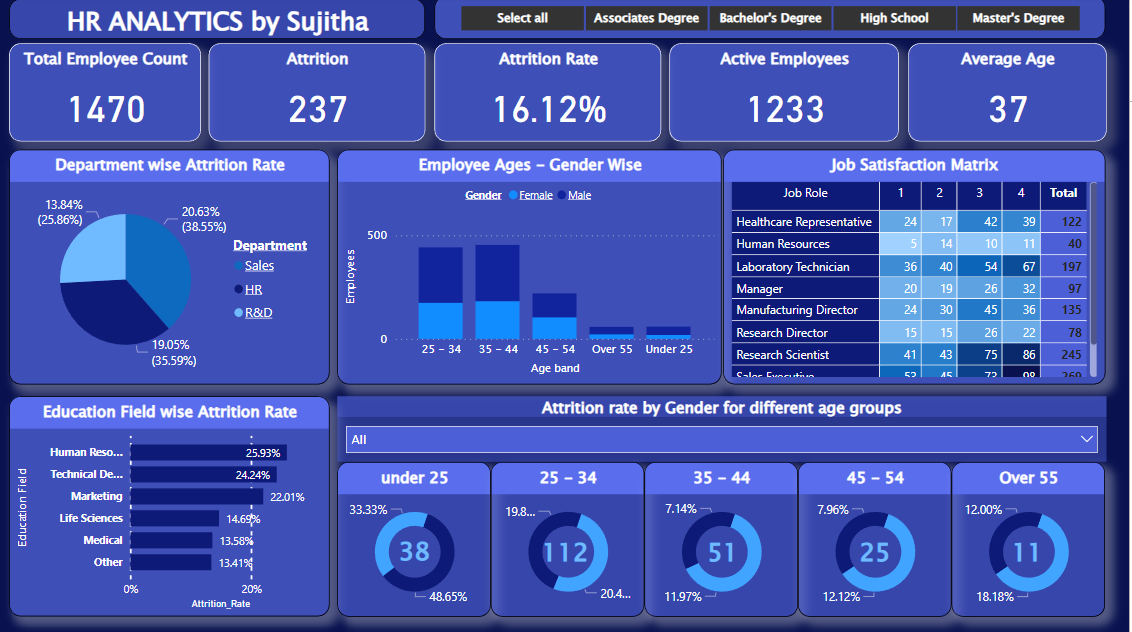

This screenshot's page, from the dashboard's own definition file:
{"tool":"powerbi","page":{"name":"Page 1","canvas":[1280,720],"ordinal":0},"visuals":[{"type":"card","title":"Total Employee Count","fields":{"Values":["Sheet1.Employee Count"]},"box":[10.4,53.5,217,111.5],"z":0},{"type":"card","title":"Attrition","fields":{"Values":["Sheet1.Attrition_Binary"]},"box":[236.3,53.5,245.2,111.5],"z":1000},{"type":"card","title":"Attrition Rate","fields":{"Values":["Sheet1.Attrition_Rate"]},"box":[491.9,53.5,257.1,111.5],"z":2000},{"type":"card","title":"Active Employees","fields":{"Values":["Sheet1.Active_Employees"]},"box":[757.9,53.5,260.1,111.5],"z":3000},{"type":"card","title":"Average Age","fields":{"Values":["Sheet1.Age"]},"box":[1028.4,53.5,224.4,111.5],"z":4000},{"type":"pieChart","title":"Department wise Attrition Rate","fields":{"Y":["Sheet1.Attrition_Rate"],"Category":["Sheet1.Department"]},"box":[10.4,173.9,362.6,266],"z":5000},{"type":"columnChart","title":"Employee Ages - Gender Wise","fields":{"Category":["Sheet1.CF_age band"],"Y":["Sheet1.CF_current Employee"],"Series":["Sheet1.Gender"]},"box":[381.9,173.9,435.4,266],"z":6000},{"type":"barChart","title":"Education Field wise Attrition Rate","fields":{"Y":["Sheet1.Attrition_Rate"],"Category":["Sheet1.Education Field"]},"box":[10.3,452.8,362.5,249],"z":7000},{"type":"pivotTable","title":"Job Satisfaction Matrix","fields":{"Rows":["Sheet1.Job Role"],"Values":["Sheet1.CF_current Employee"],"Columns":["Sheet1.Job Satisfaction"]},"box":[818.8,173.9,432.4,266],"z":8000},{"type":"donutChart","title":"under 25","fields":{"Category":["Sheet1.Gender"],"Y":["Sheet1.Attrition_Rate"],"Series":["Sheet1.CF_age band"]},"box":[381.9,527.6,173.9,175.4],"z":9000},{"type":"textbox","title":"Attrition rate by Gender for different age groups","box":[381.9,453.3,870.8,23.8],"z":10000},{"type":"donutChart","title":"25 - 34","fields":{"Category":["Sheet1.Gender"],"Y":["Sheet1.Attrition_Rate"],"Series":["Sheet1.CF_age band"]},"box":[555.8,527.6,173.9,175.4],"z":11000},{"type":"donutChart","title":"35 - 44","fields":{"Category":["Sheet1.Gender"],"Y":["Sheet1.Attrition_Rate"],"Series":["Sheet1.CF_age band"]},"box":[729.7,527.6,173.9,175.4],"z":12000},{"type":"donutChart","title":"45 - 54","fields":{"Category":["Sheet1.Gender"],"Y":["Sheet1.Attrition_Rate"],"Series":["Sheet1.CF_age band"]},"box":[903.5,527.6,173.9,175.4],"z":13000},{"type":"donutChart","title":"Over 55","fields":{"Category":["Sheet1.Gender"],"Y":["Sheet1.Attrition_Rate"],"Series":["Sheet1.CF_age band"]},"box":[1077.4,527.6,173.9,175.4],"z":14000},{"type":"slicer","title":"Gender","fields":{"Values":["Sheet1.Gender"]},"box":[381.9,477,870.8,50.5],"z":15000},{"type":"card","title":"under 25","fields":{"Values":["Sheet1.Attrition_Binary"]},"box":[431,584,75.8,89.2],"z":16000},{"type":"card","title":"under 25","fields":{"Values":["Sheet1.Attrition_Binary"]},"box":[601.9,585.5,75.8,89.2],"z":17000},{"type":"card","title":"under 25","fields":{"Values":["Sheet1.Attrition_Binary"]},"box":[780.2,585.5,75.8,89.2],"z":18000},{"type":"card","title":"under 25","fields":{"Values":["Sheet1.Attrition_Binary"]},"box":[952.6,585.5,75.8,89.2],"z":19000},{"type":"card","title":"under 25","fields":{"Values":["Sheet1.Attrition_Binary"]},"box":[1125,585.5,75.8,89.2],"z":20000},{"type":"textbox","title":"HR ANALYTICS  by Sujitha","box":[10.4,3,471.1,46.1],"z":21000},{"type":"slicer","title":"Gender","fields":{"Values":["Sheet1.Education"]},"box":[491.9,0,759.4,49],"z":22001}]}

Visuals, with their boxes in screenshot pixels (x1, y1, x2, y2), scaled from the page's 1280x720 canvas onto the 1132x632 screenshot:
"Total Employee Count" card: 9/47/201/145
"Attrition" card: 209/47/426/145
"Attrition Rate" card: 435/47/662/145
"Active Employees" card: 670/47/900/145
"Average Age" card: 909/47/1108/145
"Department wise Attrition Rate" pieChart: 9/153/330/386
"Employee Ages - Gender Wise" columnChart: 338/153/723/386
"Education Field wise Attrition Rate" barChart: 9/397/330/616
"Job Satisfaction Matrix" pivotTable: 724/153/1107/386
"under 25" donutChart: 338/463/492/617
"Attrition rate by Gender for different age groups" textbox: 338/398/1108/419
"25 - 34" donutChart: 492/463/645/617
"35 - 44" donutChart: 645/463/799/617
"45 - 54" donutChart: 799/463/953/617
"Over 55" donutChart: 953/463/1107/617
"Gender" slicer: 338/419/1108/463
"under 25" card: 381/513/448/591
"under 25" card: 532/514/599/592
"under 25" card: 690/514/757/592
"under 25" card: 842/514/909/592
"under 25" card: 995/514/1062/592
"HR ANALYTICS  by Sujitha" textbox: 9/3/426/43
"Gender" slicer: 435/0/1107/43
